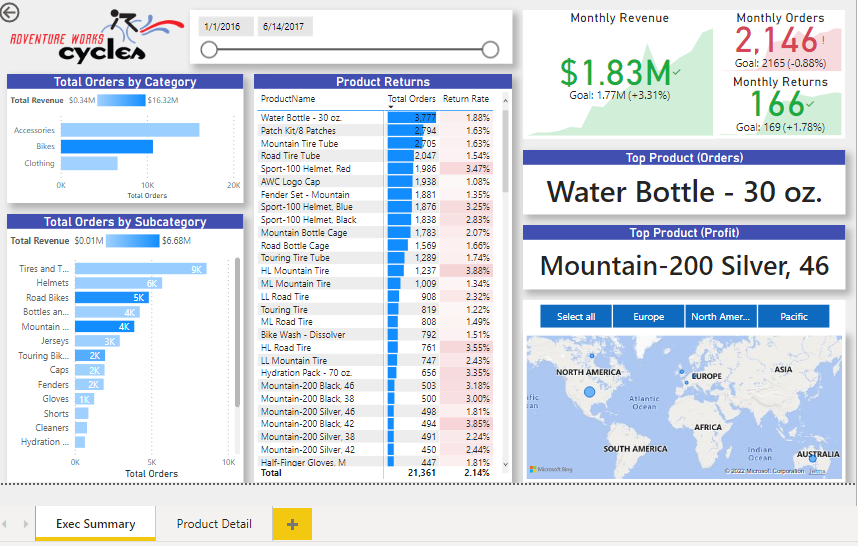

Layout of this report page (visuals, bound fields, positions):
{"tool":"powerbi","page":{"name":"Exec Summary","canvas":[1280,720],"ordinal":0},"visuals":[{"type":"image","box":[16,0,272,112],"z":0},{"type":"barChart","title":"Total Orders by Subcategory","fields":{"Y":["AW_Sales.Total Orders"],"Category":["AW_Product_Subcategories_Lookup.SubcategoryName"]},"box":[16,320,352,400],"z":1000},{"type":"actionButton","box":[0,0,100,40],"z":2000},{"type":"clusteredBarChart","title":"Total Orders by Category","fields":{"Category":["AW_Product_Category_Lookup.CategoryName","AW_Product_Subcategories_Lookup.SubcategoryName"],"Y":["AW_Sales.Total Orders"]},"box":[16,112,352,192],"z":3000},{"type":"pivotTable","title":"Product Returns","fields":{"Values":["AW_Sales.Total Orders","AW_Returns.Return Rate"],"Rows":["AW_Product_Category_Lookup.CategoryName","AW_Product_Lookup.ProductName","AW_Product_Subcategories_Lookup.SubcategoryName"]},"box":[384,112,384,608],"z":4000},{"type":"slicer","fields":{"Values":["AW_Calendar_Lookup.Date"]},"box":[288,16,480,80],"z":5000},{"type":"kpi","title":"Monthly Revenue","fields":{"Indicator":["AW_Sales.Total Revenue"],"TrendLine":["AW_Calendar_Lookup.Start of Month"],"Goal":["AW_Sales.Prev Month Revenue"]},"box":[784,16,288,192],"z":6000},{"type":"kpi","title":"Monthly Orders","fields":{"TrendLine":["AW_Calendar_Lookup.Start of Month"],"Indicator":["AW_Sales.Total Orders"],"Goal":["AW_Sales.Prev Month Orders"]},"box":[1072,16,192,96],"z":7000},{"type":"kpi","title":"Monthly Returns","fields":{"TrendLine":["AW_Calendar_Lookup.Start of Month"],"Indicator":["AW_Returns.Total Returns"],"Goal":["AW_Returns.Prev Month Returns"]},"box":[1072,112,192,96],"z":8000},{"type":"card","title":"Top Product (Orders)","fields":{"Values":["Min(AW_Product_Lookup.ProductName)"]},"box":[784,224,480,96],"z":9000},{"type":"card","title":"Top Product (Profit)","fields":{"Values":["Min(AW_Product_Lookup.ProductName)"]},"box":[784,336,480,96],"z":10000},{"type":"map","fields":{"Category":["AW_Territories_Lookup.Country"],"Size":["AW_Sales.Total Orders"]},"box":[784,496,480,224],"z":11000},{"type":"slicer","fields":{"Values":["AW_Territories_Lookup.Continent"]},"box":[784,448,480,48],"z":12000}]}

Visuals, with their boxes on the page's 1280x720 design canvas (x1, y1, x2, y2). These are canvas units, not pixel positions in the 858x546 screenshot, which may show the page scaled, cropped or inside an application window:
image: rect(16, 0, 288, 112)
"Total Orders by Subcategory" barChart: rect(16, 320, 368, 720)
actionButton: rect(0, 0, 100, 40)
"Total Orders by Category" clusteredBarChart: rect(16, 112, 368, 304)
"Product Returns" pivotTable: rect(384, 112, 768, 720)
slicer - AW_Calendar_Lookup.Date: rect(288, 16, 768, 96)
"Monthly Revenue" kpi: rect(784, 16, 1072, 208)
"Monthly Orders" kpi: rect(1072, 16, 1264, 112)
"Monthly Returns" kpi: rect(1072, 112, 1264, 208)
"Top Product (Orders)" card: rect(784, 224, 1264, 320)
"Top Product (Profit)" card: rect(784, 336, 1264, 432)
map - AW_Territories_Lookup.Country x AW_Sales.Total Orders: rect(784, 496, 1264, 720)
slicer - AW_Territories_Lookup.Continent: rect(784, 448, 1264, 496)
